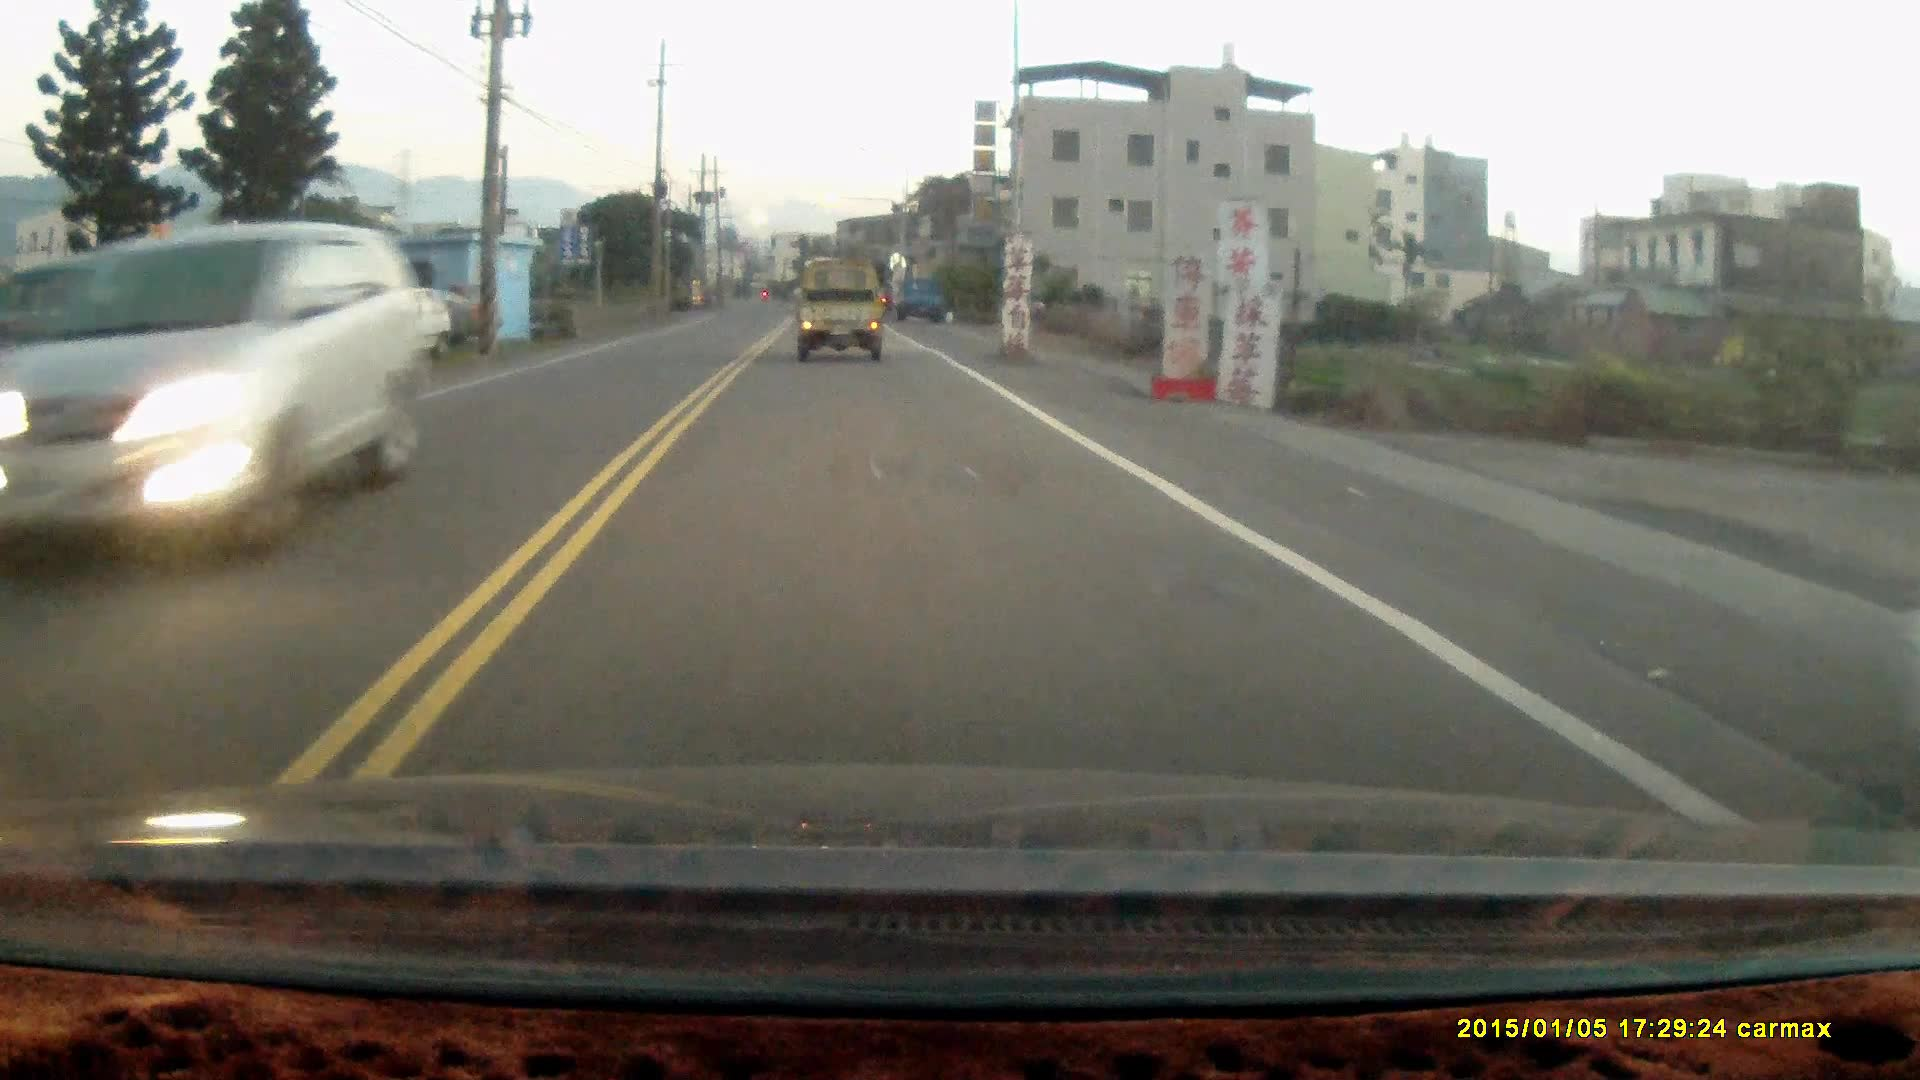vehicle: (1, 222, 409, 579), (795, 272, 887, 371), (897, 280, 949, 330)
